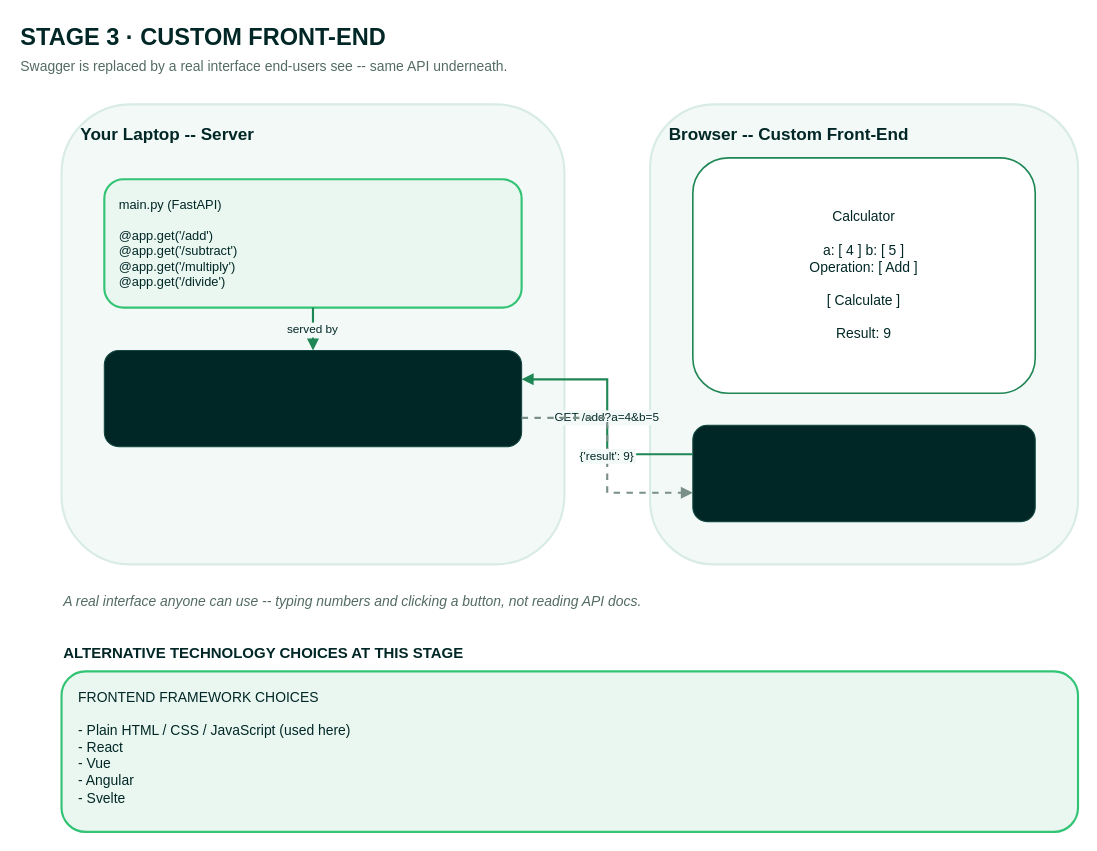
The diagram is 1097 pixels wide and 851 high, and some of its shapes have lost their labels. The shapes that lost their labels are listed below. From the top down, each one's centre as x and y in pixels, then its label:
[312,398]: uvicorn main:app --reload Uvicorn running on http://127.0.0.1:8000
[863,473]: app.js fetch(BASE_URL + '/add?a=4&b=5') .then(r => r.json())
